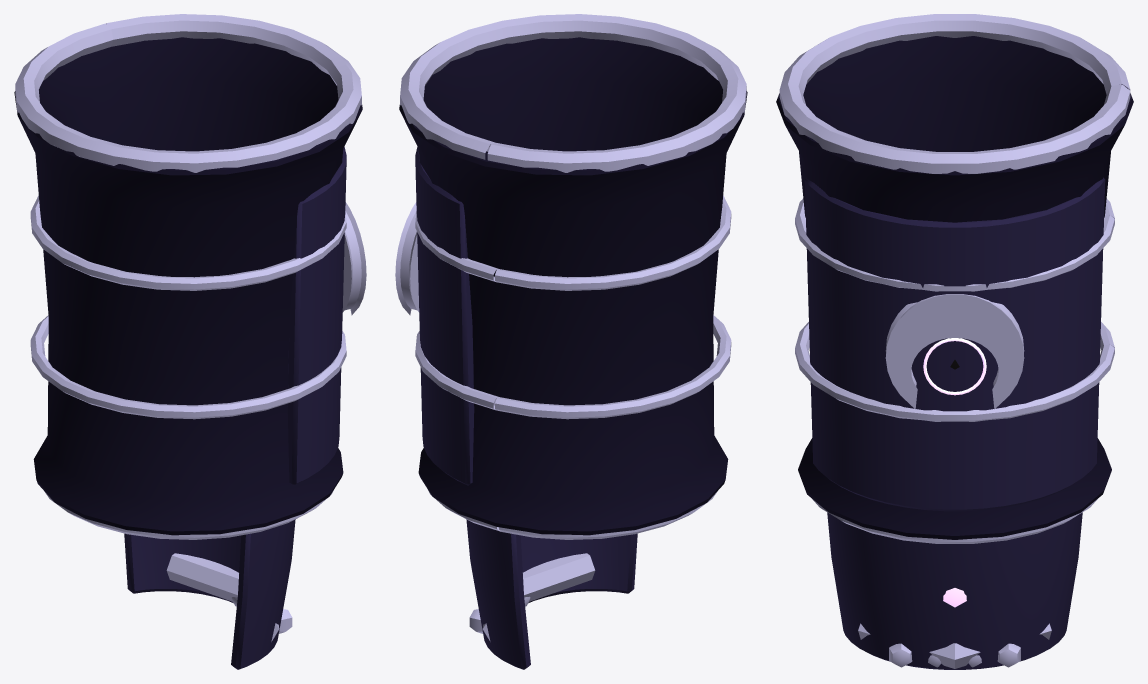
Rendered from asc_nightsky_reaver_gloves.glb.
3 renders of one model, left to right at view 1: azimuth 30°, elevation 25°; view 2: azimuth 150°, elevation 25°; view 3: azimuth 270°, elevation 25°, orthographic.
Parts seen in each view (by area): view 1: asc_nightsky_reaver_gloves, AT_hand_L; view 2: asc_nightsky_reaver_gloves, AT_hand_L; view 3: asc_nightsky_reaver_gloves, AT_hand_L.
Part boxes in pixels (box(x1,y1,x2,y2)): asc_nightsky_reaver_gloves: box(14, 14, 366, 539); AT_hand_L: box(124, 519, 295, 669); asc_nightsky_reaver_gloves: box(395, 14, 747, 539); AT_hand_L: box(466, 519, 637, 669); asc_nightsky_reaver_gloves: box(776, 14, 1133, 543); AT_hand_L: box(827, 512, 1082, 669).
Bounding box in the file's own units: 0.1971 × 0.3408 × 0.2004.
